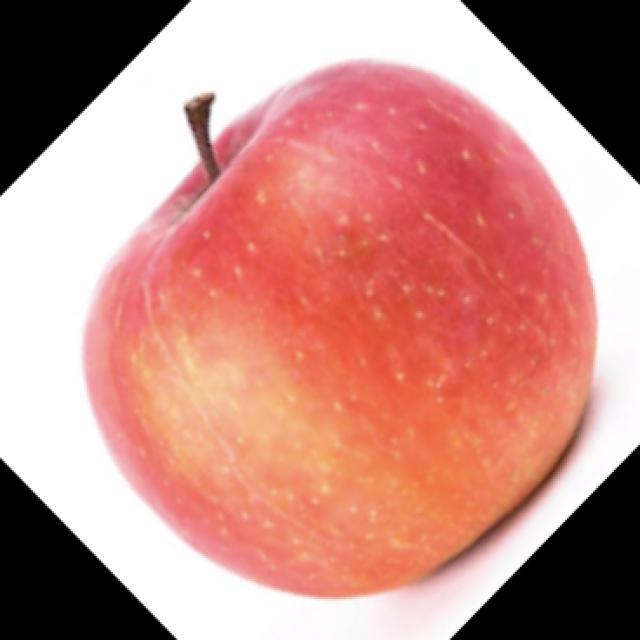Fresh Apple: (111, 65, 592, 597)
